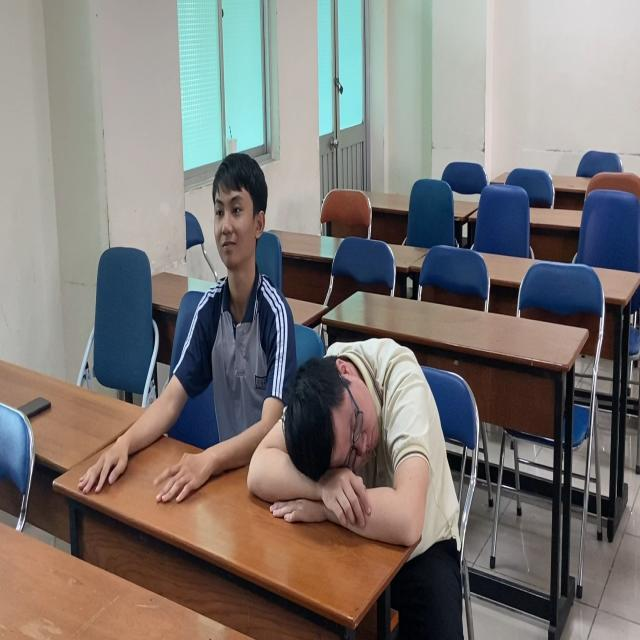sleep: (245, 332, 460, 550)
